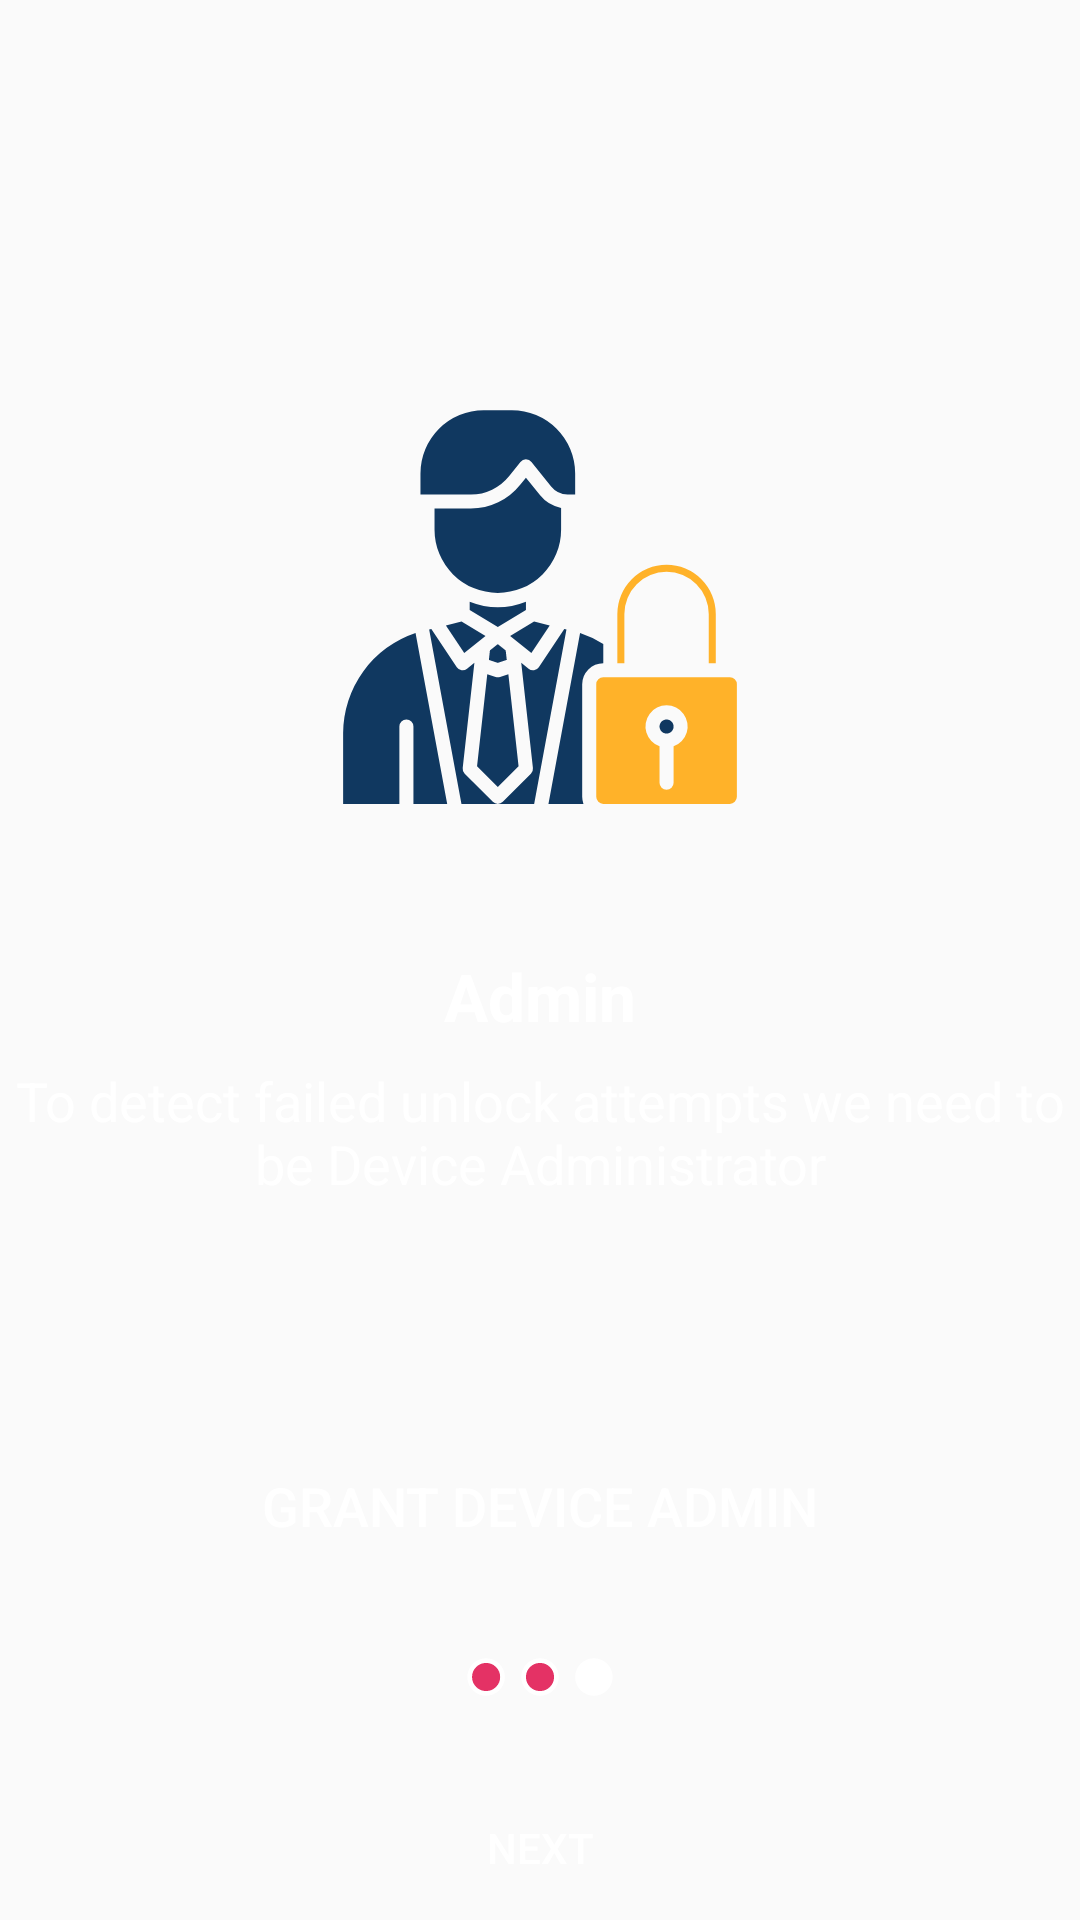

Point at icon controls on the screen. Image size 1080*1920, points as (x,y).
dot: (513,1677)
